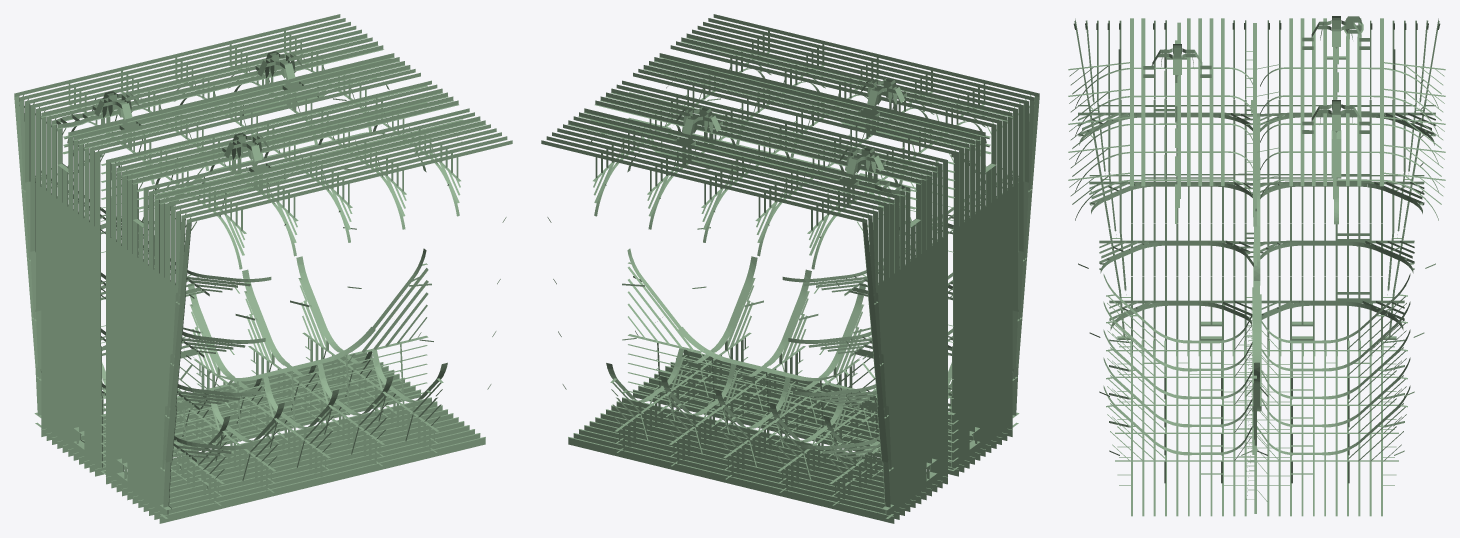
File: NO_4_CENTRAL_CARGO_OIL_TK.glb
3 views of the same model, side by side, from view 1: azimuth 30°, elevation 25°; view 2: azimuth 150°, elevation 25°; view 3: azimuth 270°, elevation 25° (orthographic). The views are drawn at different scales.
Size of the model in its own units: 31.51 by 31.5 by 29.9.
